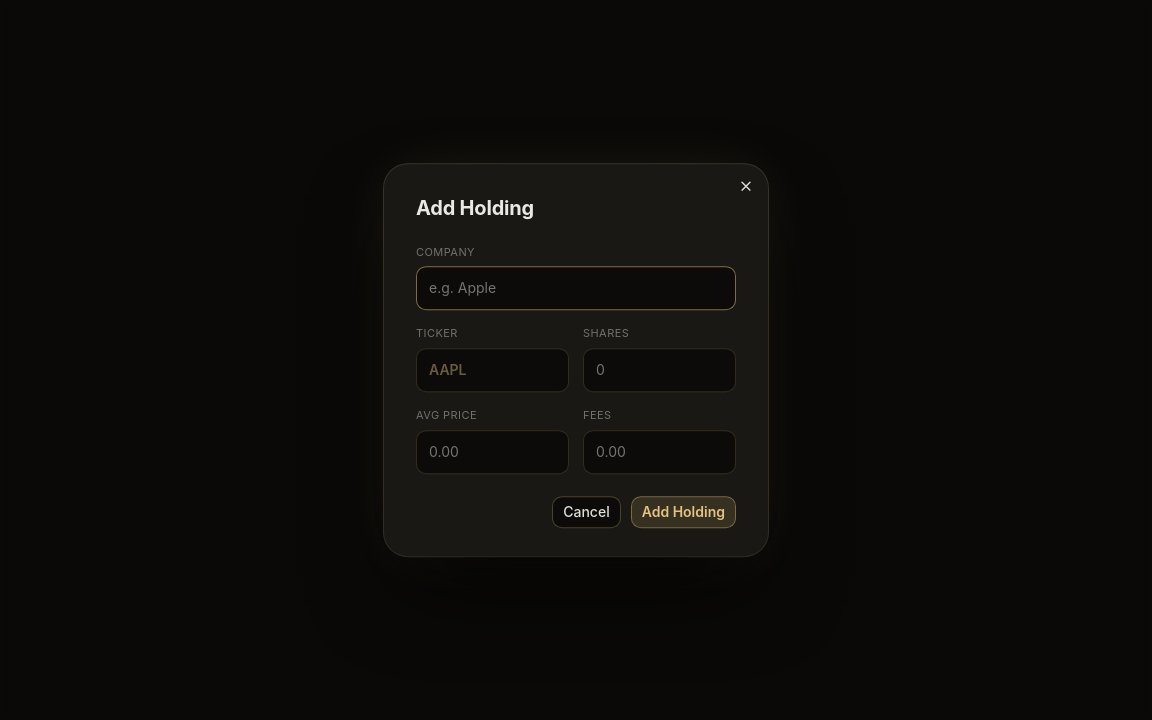
Scenario: HoldingModal › add mode › shows per-field validation errors and does not submit when required fields are blank
The image size is (1152, 720).
Click the button "Add Holding" at (683, 512), box [631,496,736,528]
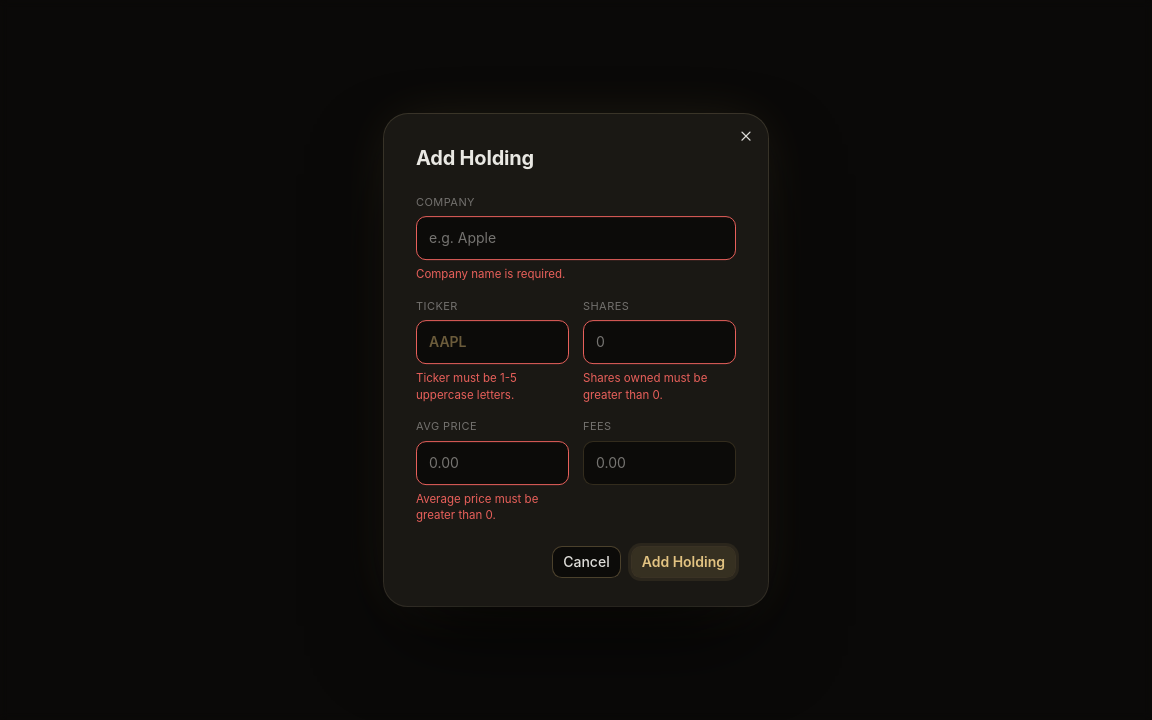
Now the text "Company name is required." is shown, box [416,267,565,281]
Now the text "Ticker must be 1-5 uppercase letters." is shown, box [416,372,517,402]
Now the text "Shares owned must be greater than 0." is shown, box [583,372,707,402]
